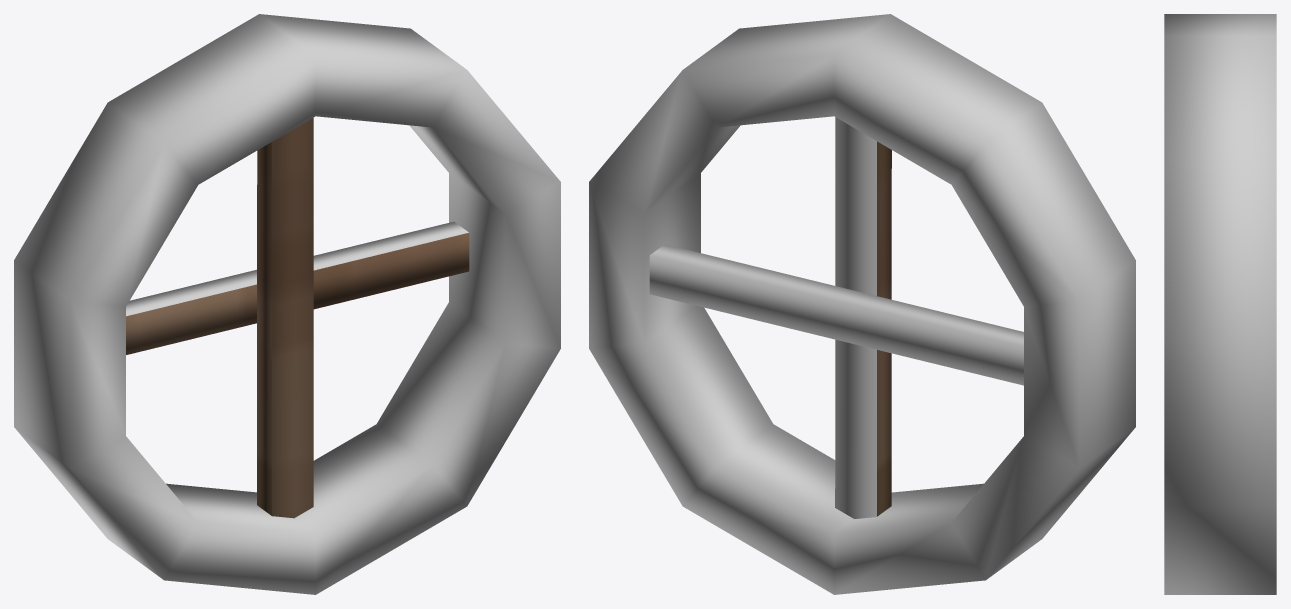
3 views of the same model, side by side, from view 1: azimuth 30°, elevation 25°; view 2: azimuth 150°, elevation 25°; view 3: azimuth 270°, elevation 25° (orthographic).
Parts seen in each view (by area): view 1: 立方体.001; view 2: 立方体.001; view 3: 立方体.001.
Boxes of the visible parts, x1=… form: 立方体.001: x1=14, y1=14, x2=560, y2=594; 立方体.001: x1=589, y1=14, x2=1135, y2=594; 立方体.001: x1=1164, y1=14, x2=1276, y2=594.
Size of the model in its own units: 1190 by 1251 by 237.
